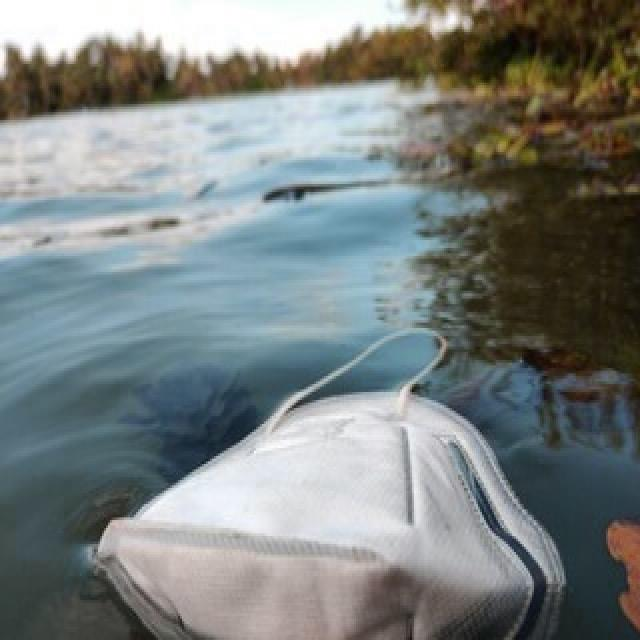Trash: (93, 328, 566, 640)
